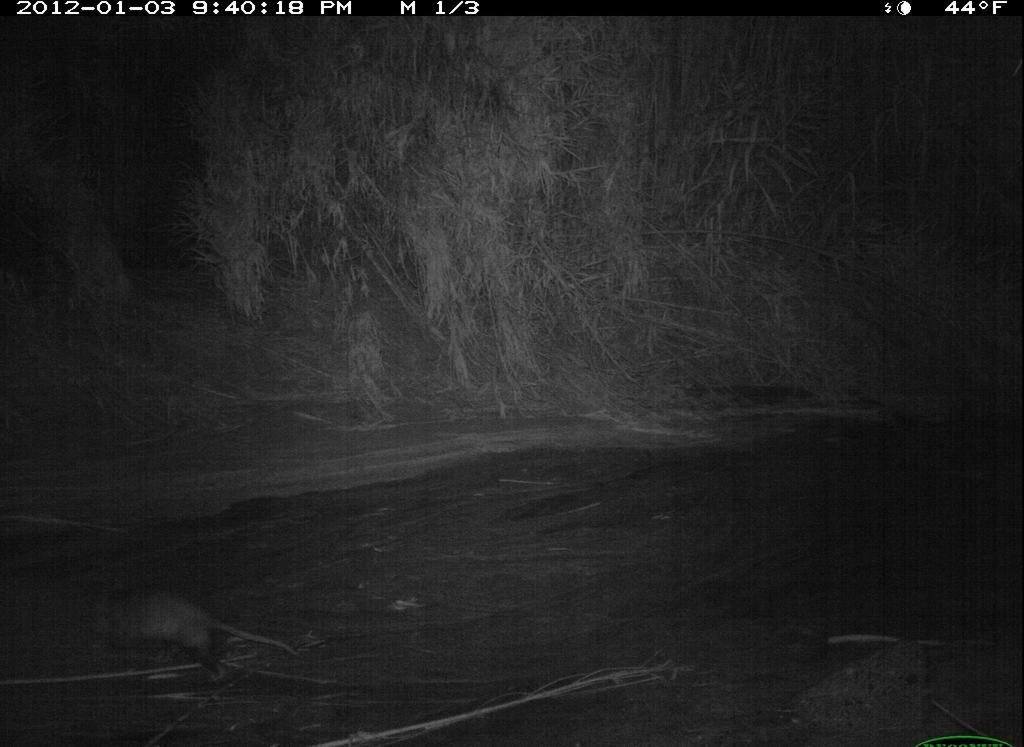opossum: (63, 556, 310, 701)
